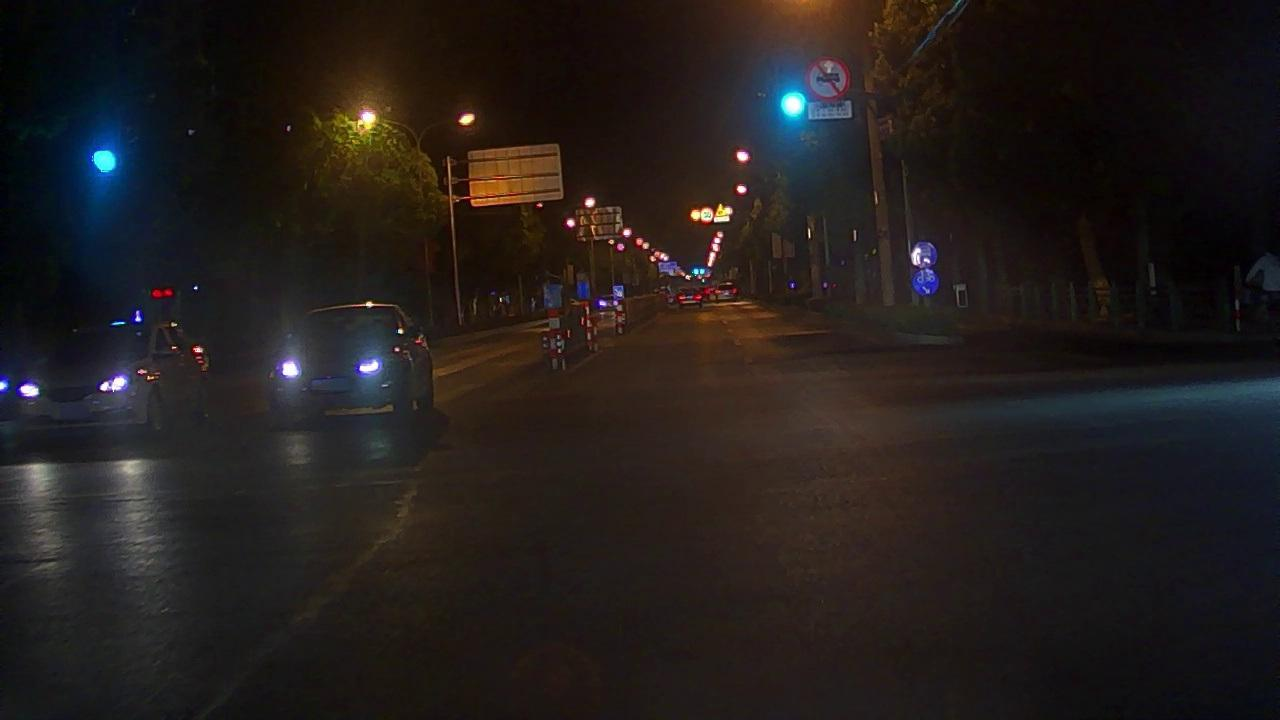traffic_light: (86, 132, 123, 185), (776, 78, 811, 130)
